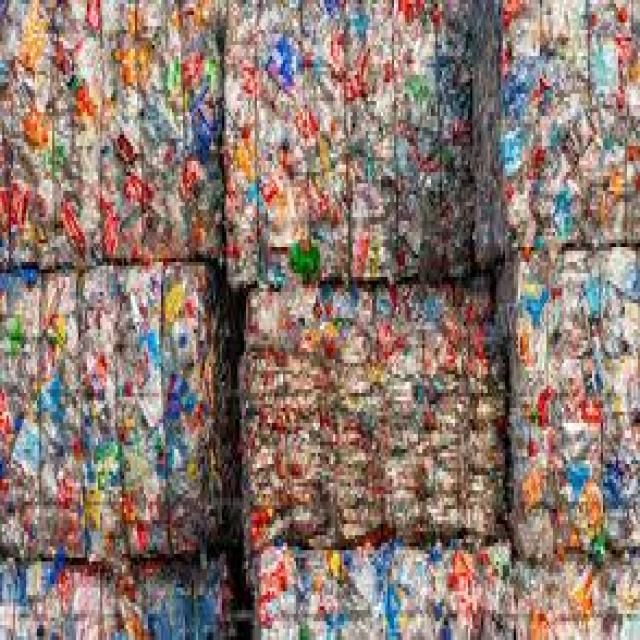plastic: (9, 19, 640, 626)
